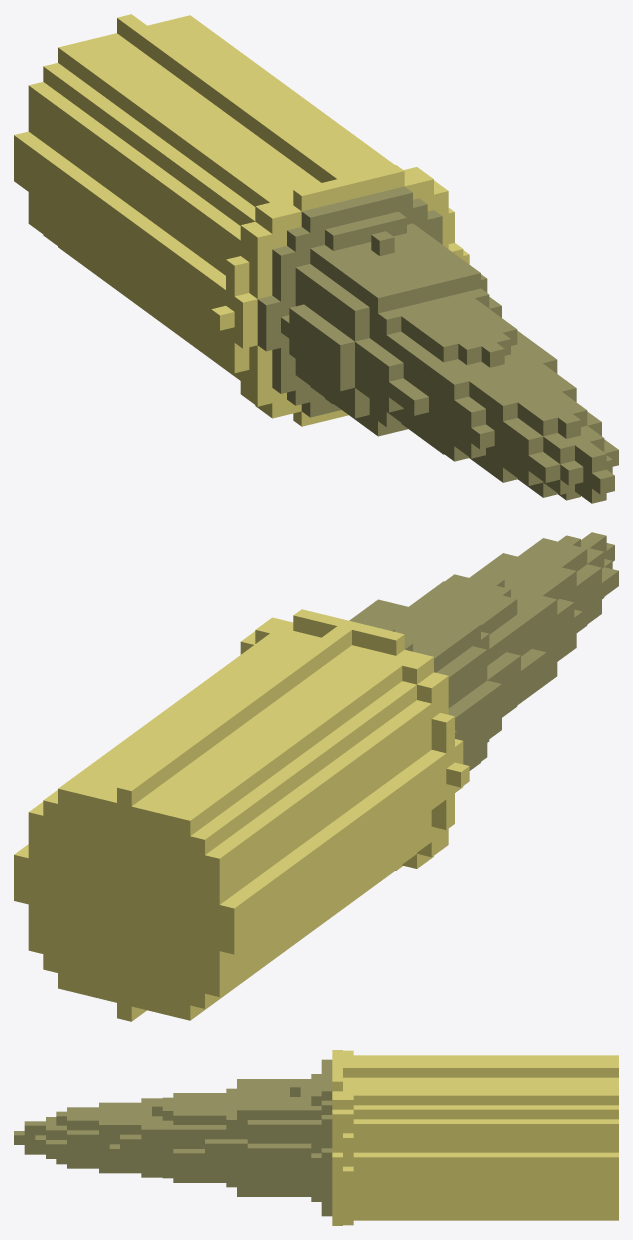
The model's file is BaleProjectile.fbx.
3 views of the same model, one above another, from view 1: azimuth 30°, elevation 25°; view 2: azimuth 150°, elevation 25°; view 3: azimuth 270°, elevation 25° (orthographic). The views are drawn at different scales.
Parts seen in each view (by area): view 1: Cube; view 2: Cube; view 3: Cube.
Part boxes in pixels (bbox=[...]): Cube: bbox=[14, 14, 618, 503]; Cube: bbox=[14, 532, 618, 1021]; Cube: bbox=[14, 1050, 618, 1225].
Size of the model in its own units: 1.56 by 5.22 by 1.37.
